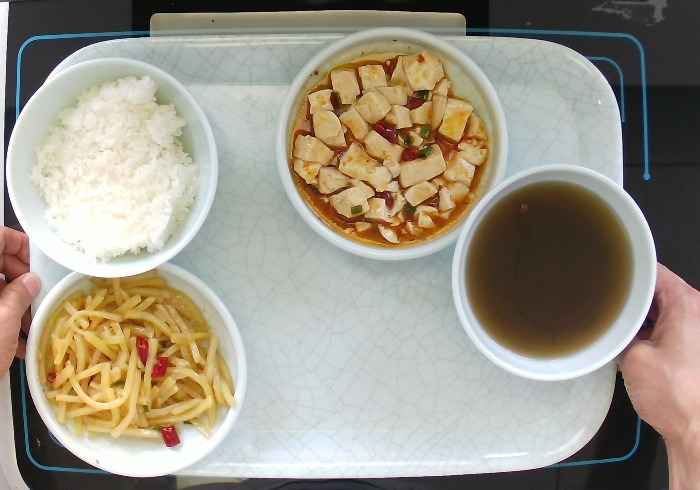JYsf-Fan_Wan: (3, 55, 220, 280), (450, 161, 659, 383)
JYsf-Xiao_Yuan_Pan: (274, 24, 510, 264), (22, 260, 249, 480)
